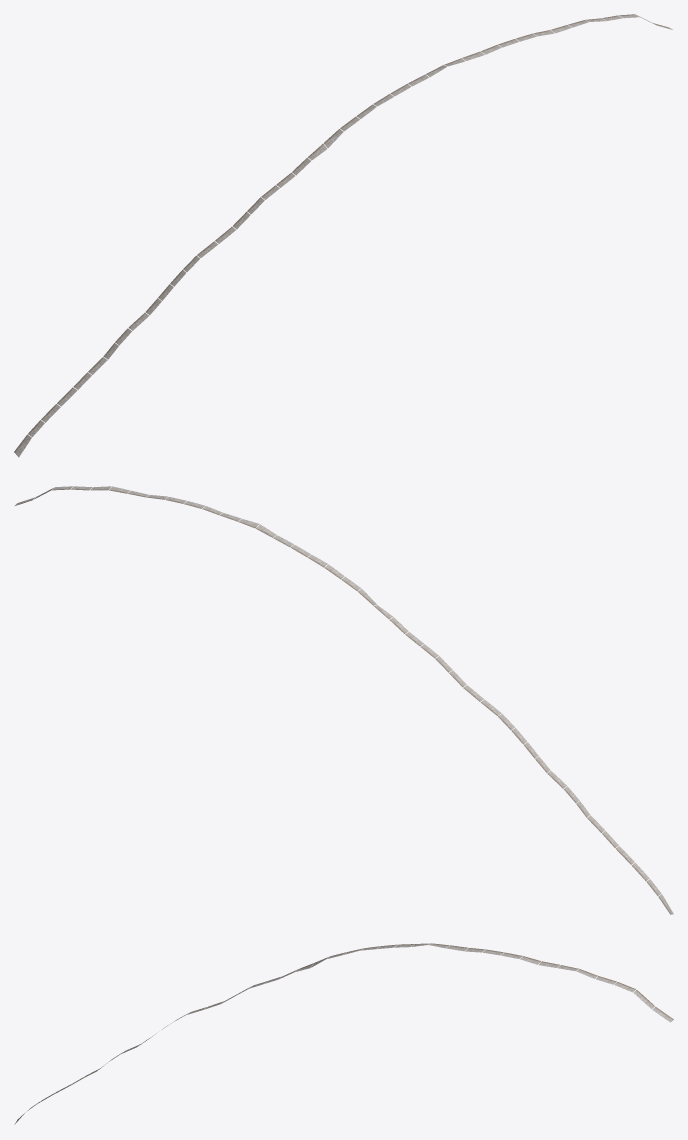
The picture shows the model from 3 angles, top to bottom: view 1: azimuth 30°, elevation 25°; view 2: azimuth 150°, elevation 25°; view 3: azimuth 330°, elevation 25°; orthographic projection.
Bounding box in the file's own units: 101 × 43.08 × 3.83.
Materials: 1 (1 with a texture image).
